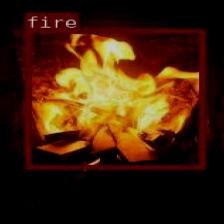fire: (24, 28, 204, 169)
